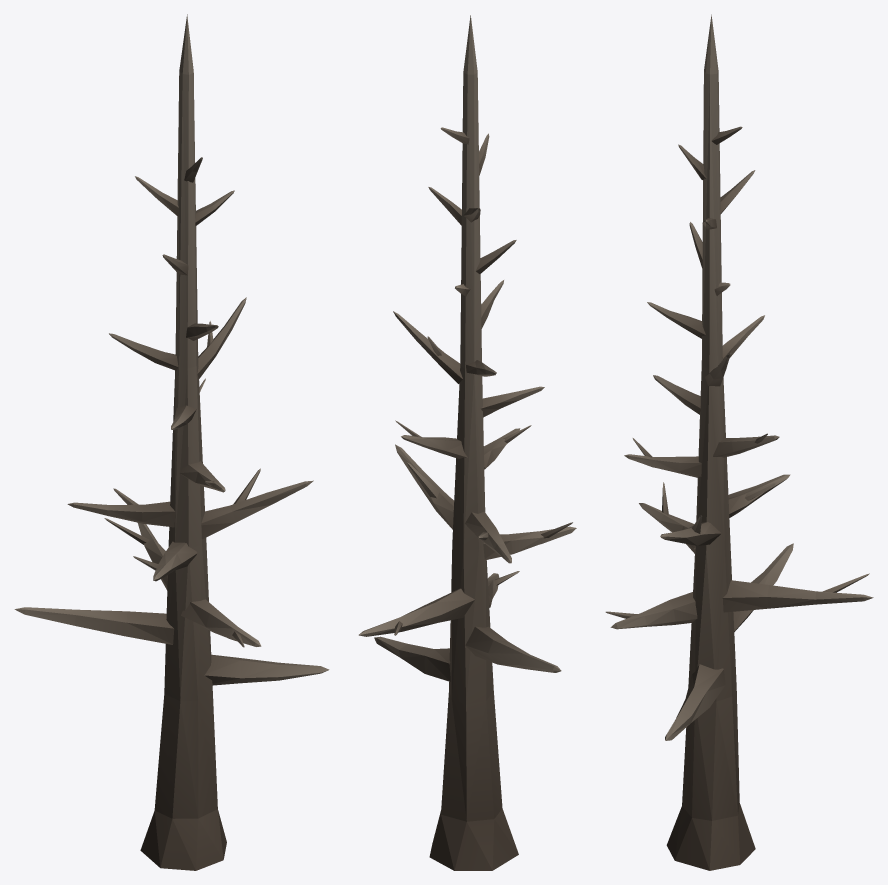
Rendered from dead_M_std_layered_s3.glb.
3 renders of one model, left to right at view 1: azimuth 30°, elevation 25°; view 2: azimuth 150°, elevation 25°; view 3: azimuth 270°, elevation 25°, orthographic.
Visible parts, largest first — view 1: Tree; view 2: Tree; view 3: Tree.
Part boxes in pixels (<box>): Tree: <box>14,14,329,870</box>; Tree: <box>358,15,576,870</box>; Tree: <box>605,14,873,870</box>.
Size of what is drawn, in the model's own units: 1.89 by 6 by 1.75.
